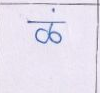anusvara: (52, 8, 55, 12)
